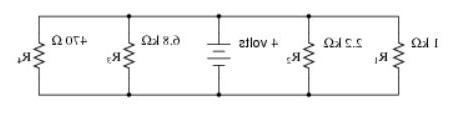resistor: (299, 38, 317, 70), (389, 38, 406, 71), (121, 37, 136, 71), (33, 36, 48, 70)
